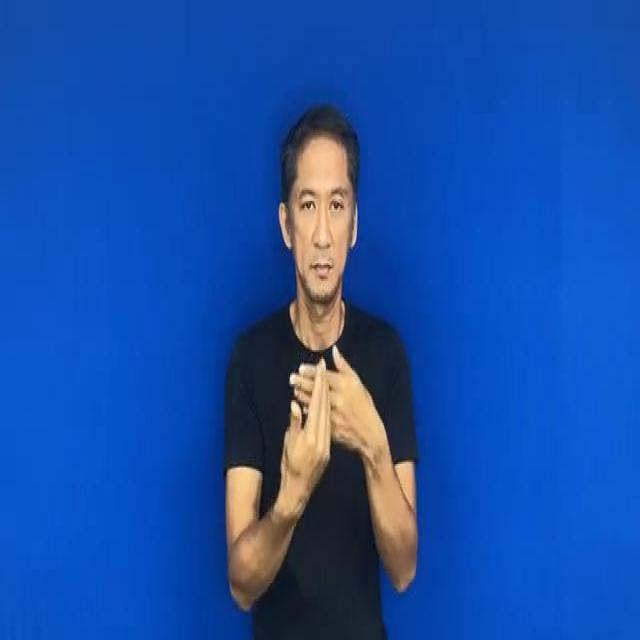bread: (275, 340, 374, 514)
